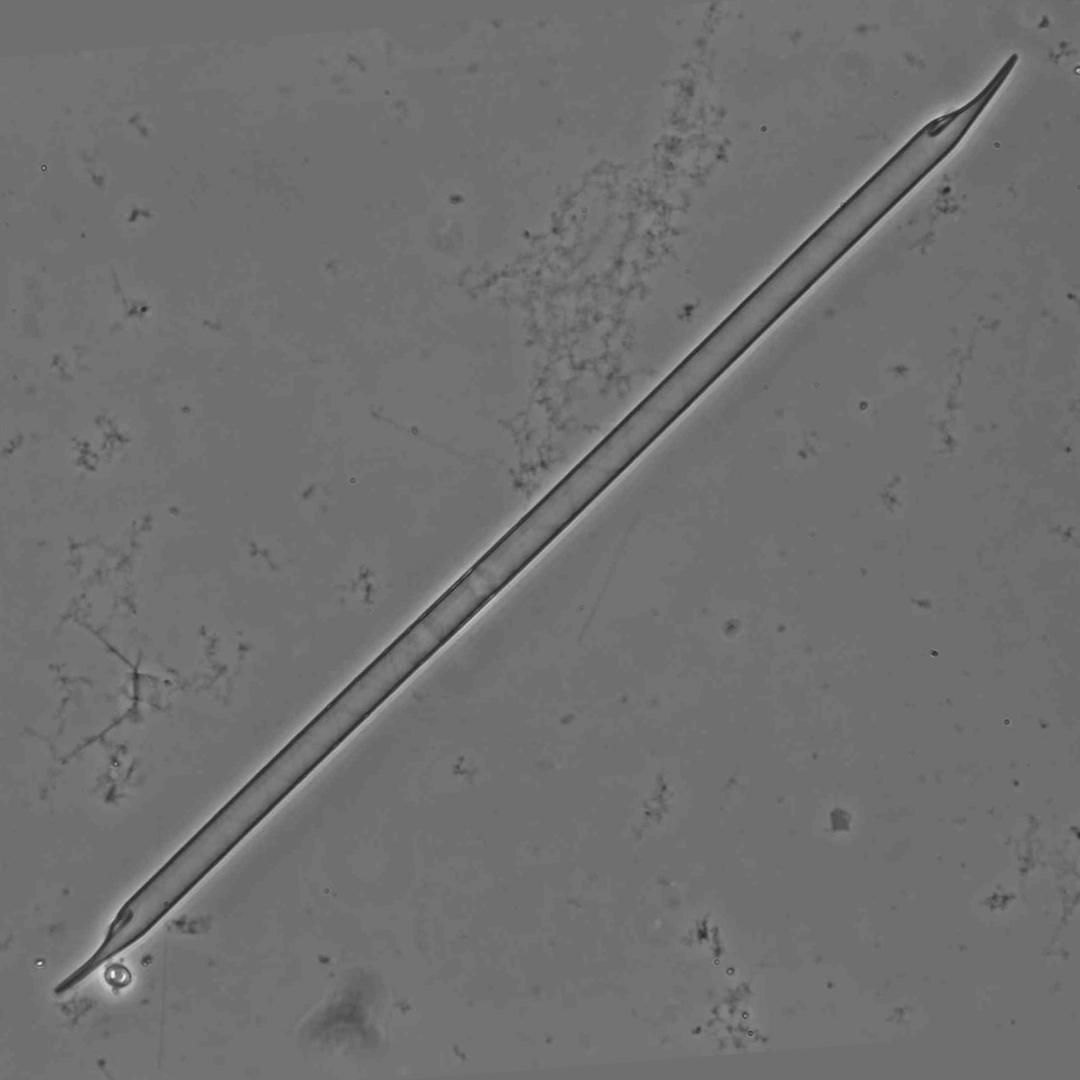proboscia_alata: (54, 54, 1017, 994)
